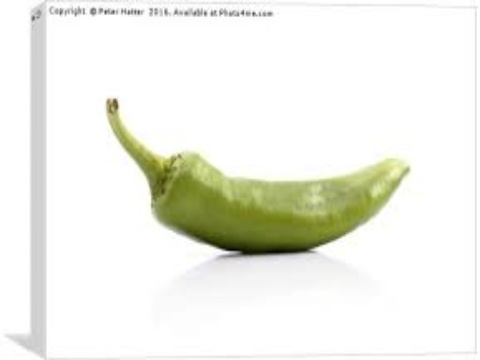Chilli: (91, 84, 421, 261)
